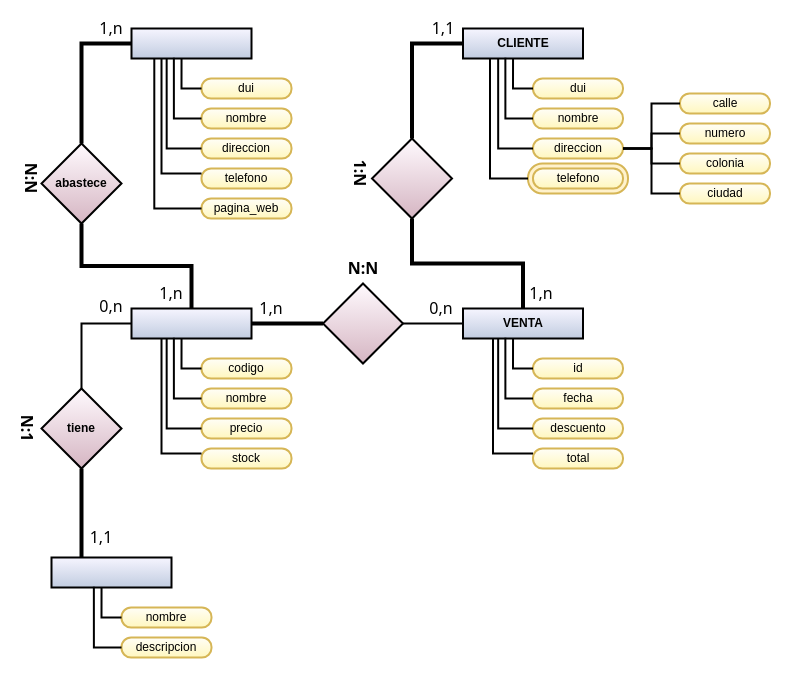
This 788x675 diagram has some shape labels left out. The centre of each missing label's shape, as x and y in pixels:
CATEGORIA: the point at 111,572
es incluido: the point at 363,323
PRODUCTO: the point at 191,323
PROVEEDOR: the point at 191,43
provoca: the point at 411,178
